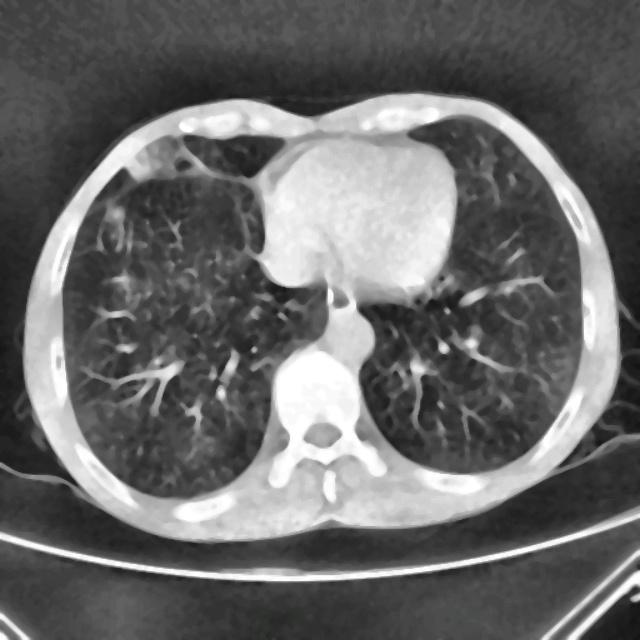covid: (18, 91, 624, 544)
